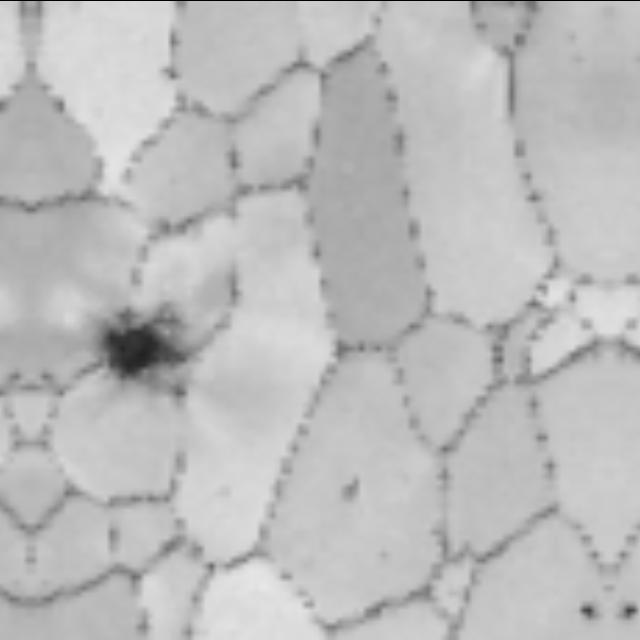good_void: (98, 294, 198, 401), (577, 598, 602, 627), (618, 598, 640, 627), (341, 476, 364, 501)
